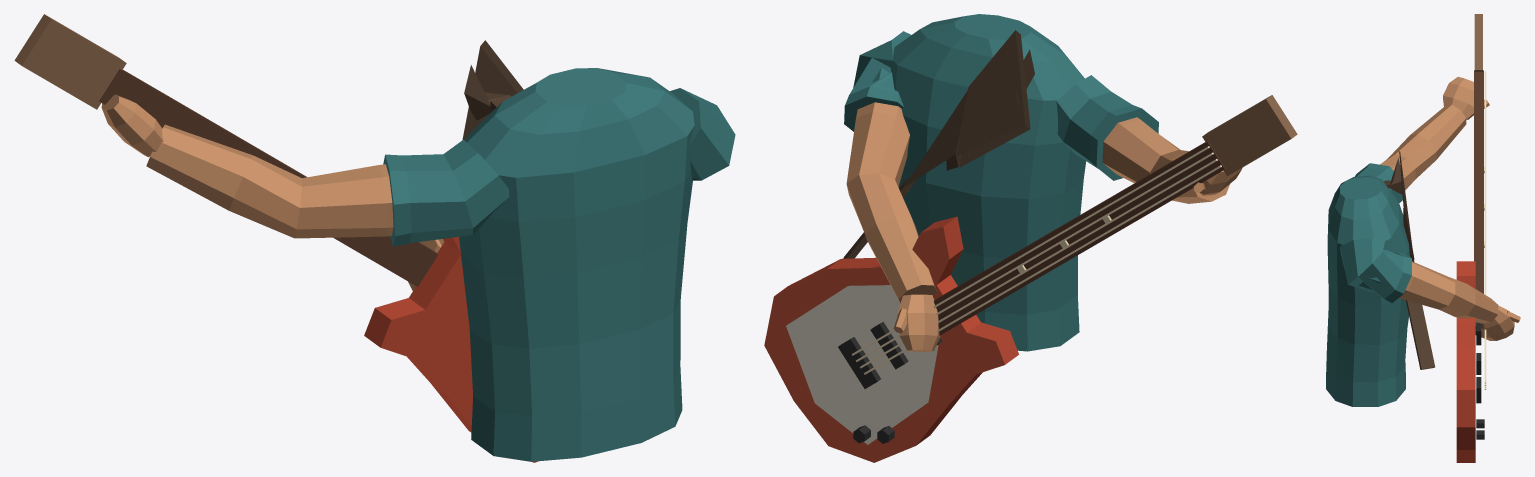
Rendered from lwf_guitarist_male_electric_kit_v2.glb.
3 views of the same model, side by side, from view 1: azimuth 30°, elevation 25°; view 2: azimuth 150°, elevation 25°; view 3: azimuth 270°, elevation 25° (orthographic). The views are drawn at different scales.
Parts seen in each view (by area): view 1: LWF_Guitarist_RightPlayingArm, LWF_Guitarist_LeftPlayingArm, LWF_Guitarist_ElectricGuitar, LWF_Fitted_LeatherStrap; view 2: LWF_Guitarist_RightPlayingArm, LWF_Guitarist_ElectricGuitar, LWF_Guitarist_LeftPlayingArm, LWF_Fitted_LeatherStrap; view 3: LWF_Guitarist_RightPlayingArm, LWF_Guitarist_ElectricGuitar, LWF_Guitarist_LeftPlayingArm, LWF_Fitted_LeatherStrap.
Boxes of the visible parts, <box> form: LWF_Guitarist_RightPlayingArm: <box>408,68,735,461</box>; LWF_Guitarist_LeftPlayingArm: <box>101,94,509,246</box>; LWF_Guitarist_ElectricGuitar: <box>14,14,537,462</box>; LWF_Fitted_LeatherStrap: <box>462,40,523,139</box>; LWF_Guitarist_RightPlayingArm: <box>844,14,1085,351</box>; LWF_Guitarist_ElectricGuitar: <box>764,95,1297,462</box>; LWF_Guitarist_LeftPlayingArm: <box>1056,75,1242,203</box>; LWF_Fitted_LeatherStrap: <box>843,30,1034,258</box>; LWF_Guitarist_RightPlayingArm: <box>1326,175,1520,406</box>; LWF_Guitarist_ElectricGuitar: <box>1456,14,1486,462</box>; LWF_Guitarist_LeftPlayingArm: <box>1354,76,1489,202</box>; LWF_Fitted_LeatherStrap: <box>1383,151,1435,369</box>.
Bounding box in the file's own units: 0.9788 × 0.8159 × 0.4661.
Materials: 3 (3 with a texture image).
